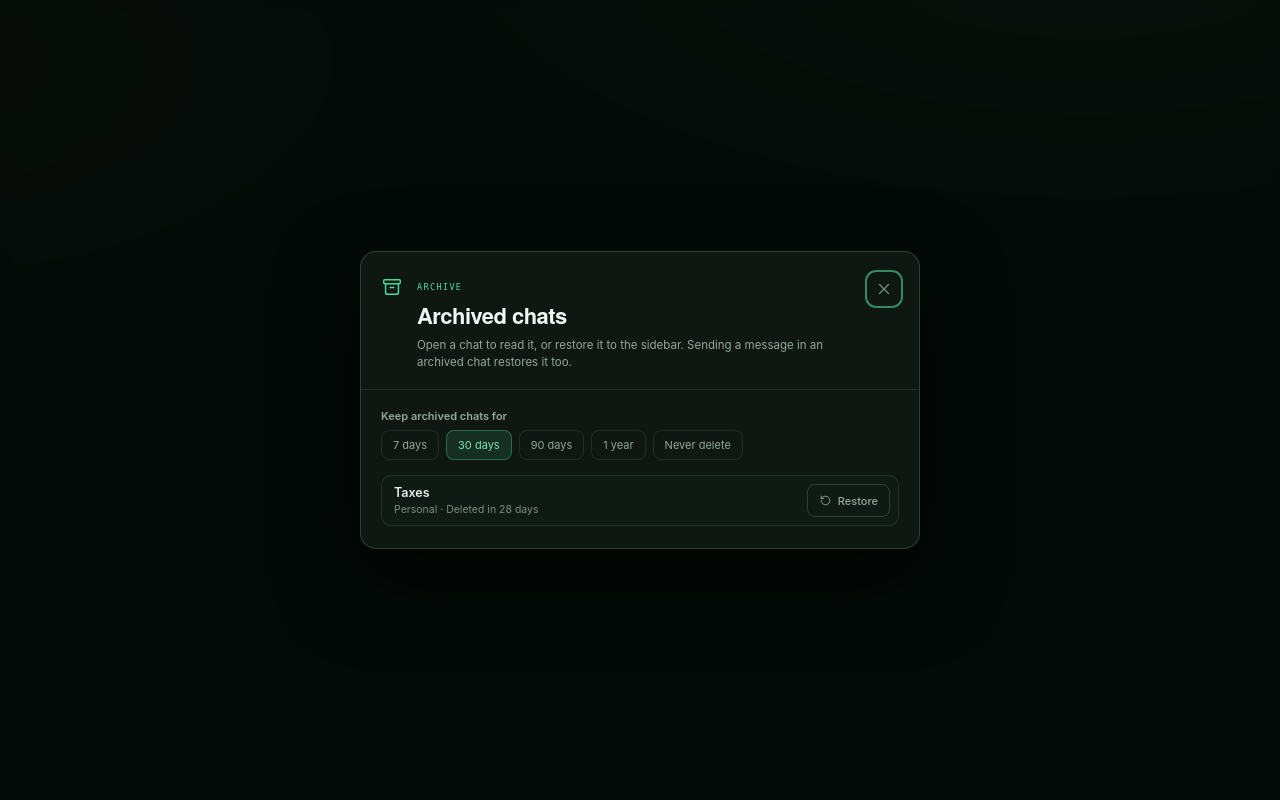
it: chat archiving › lists archived chats with their deletion date and restores one
The image size is (1280, 800).
Expected: the text "Personal · Deleted in 28 days" is shown, [394,503,538,516]
Click the button "Restore".
click(848, 500)  # box [807,484,890,517]
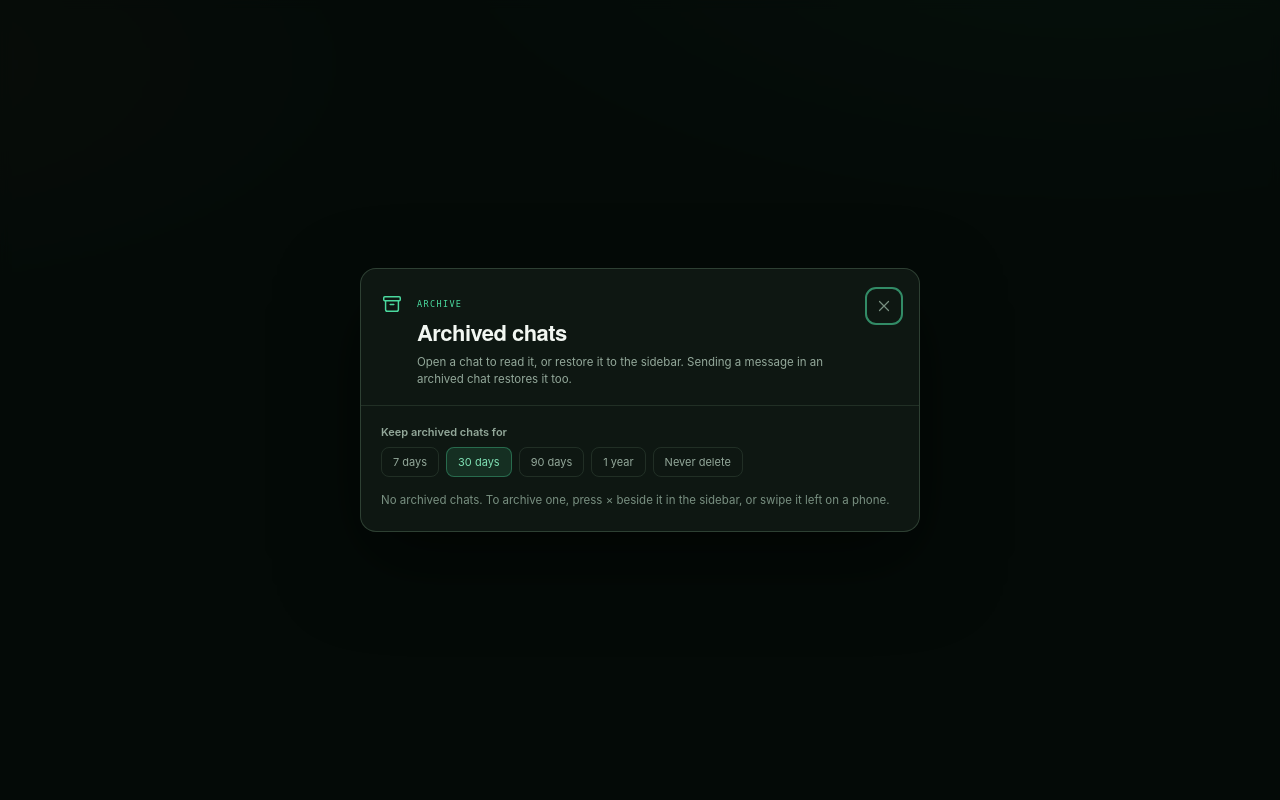
Expected: the button "Taxes" is gone
